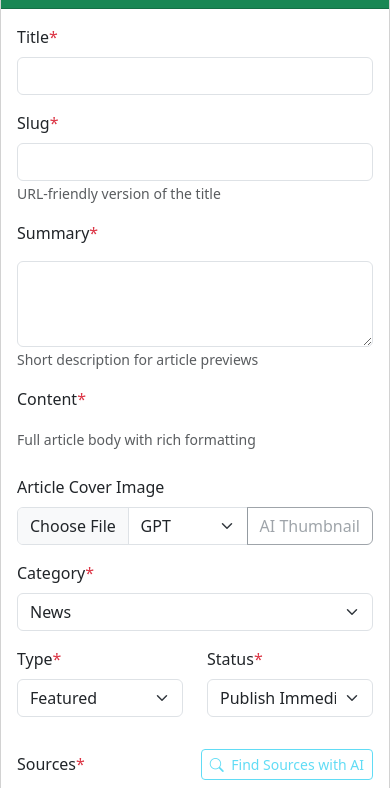
Test: Admin/Articles/Create.vue › sets a default scheduledFor when switching to scheduled without a date
Select "Schedule for Later" in the dropdown with id "status" at (290, 698), box [207, 679, 373, 717]
(page scrolled)
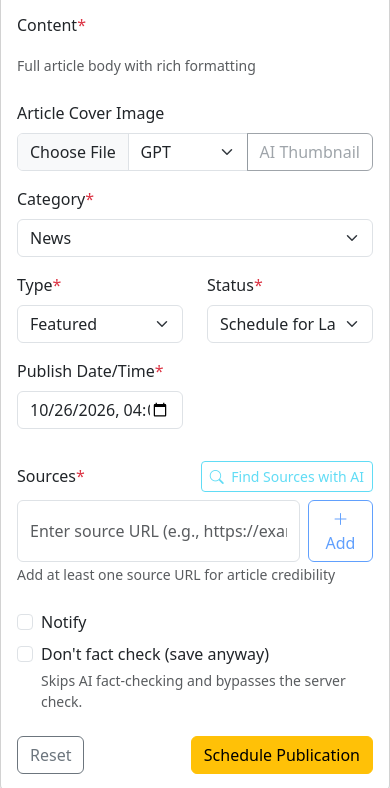
Expected: the field labelled "Publish Date/Time*" is shown, [17, 391, 183, 429]
